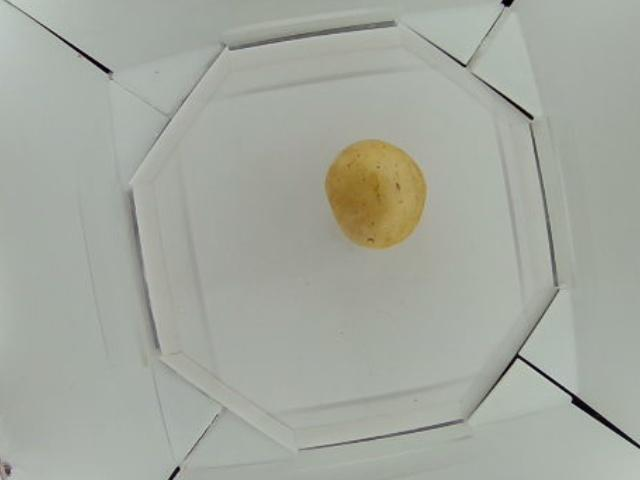Potato: (326, 136, 431, 254)
